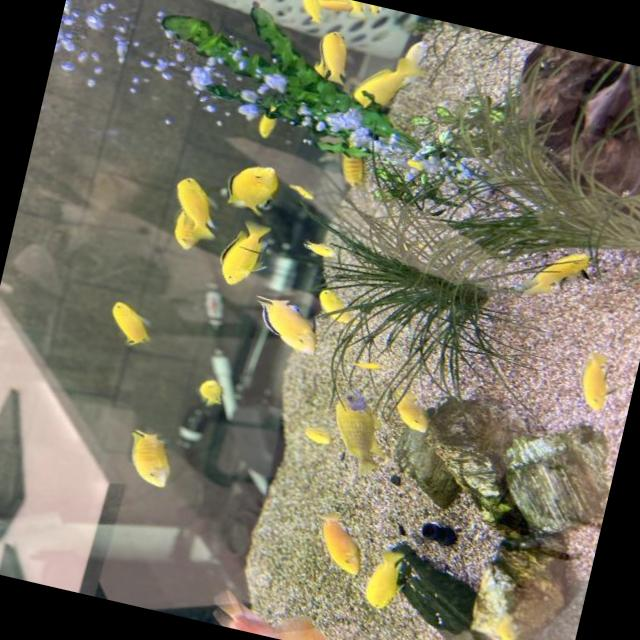YellowCichlid: (513, 234, 612, 314), (108, 410, 186, 498), (346, 46, 431, 124), (298, 498, 372, 581), (240, 290, 317, 368), (90, 285, 174, 354), (354, 536, 422, 621), (383, 372, 453, 448), (570, 324, 626, 418), (212, 211, 276, 293), (331, 379, 388, 469), (222, 148, 286, 216), (164, 159, 223, 217), (306, 22, 359, 84), (175, 363, 238, 412), (243, 86, 290, 146), (334, 135, 379, 192), (314, 279, 361, 332), (291, 412, 341, 452), (298, 234, 351, 270), (487, 601, 533, 640), (157, 210, 199, 250), (342, 348, 389, 382), (284, 176, 326, 208), (289, 0, 324, 26), (404, 149, 426, 177), (322, 0, 350, 19), (349, 0, 365, 18), (371, 4, 385, 14)
